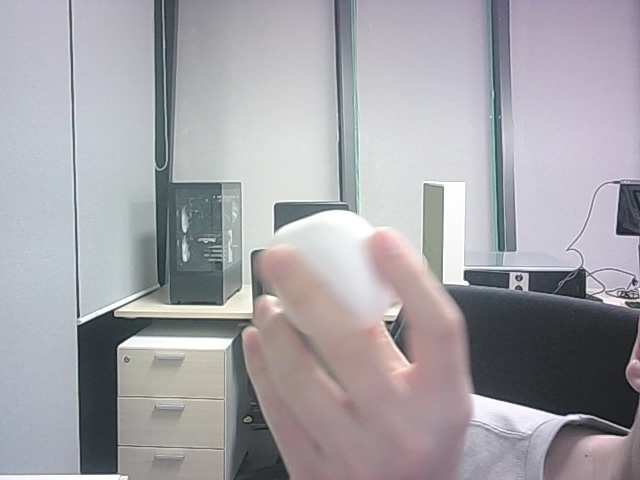case: (269, 210, 392, 328)
